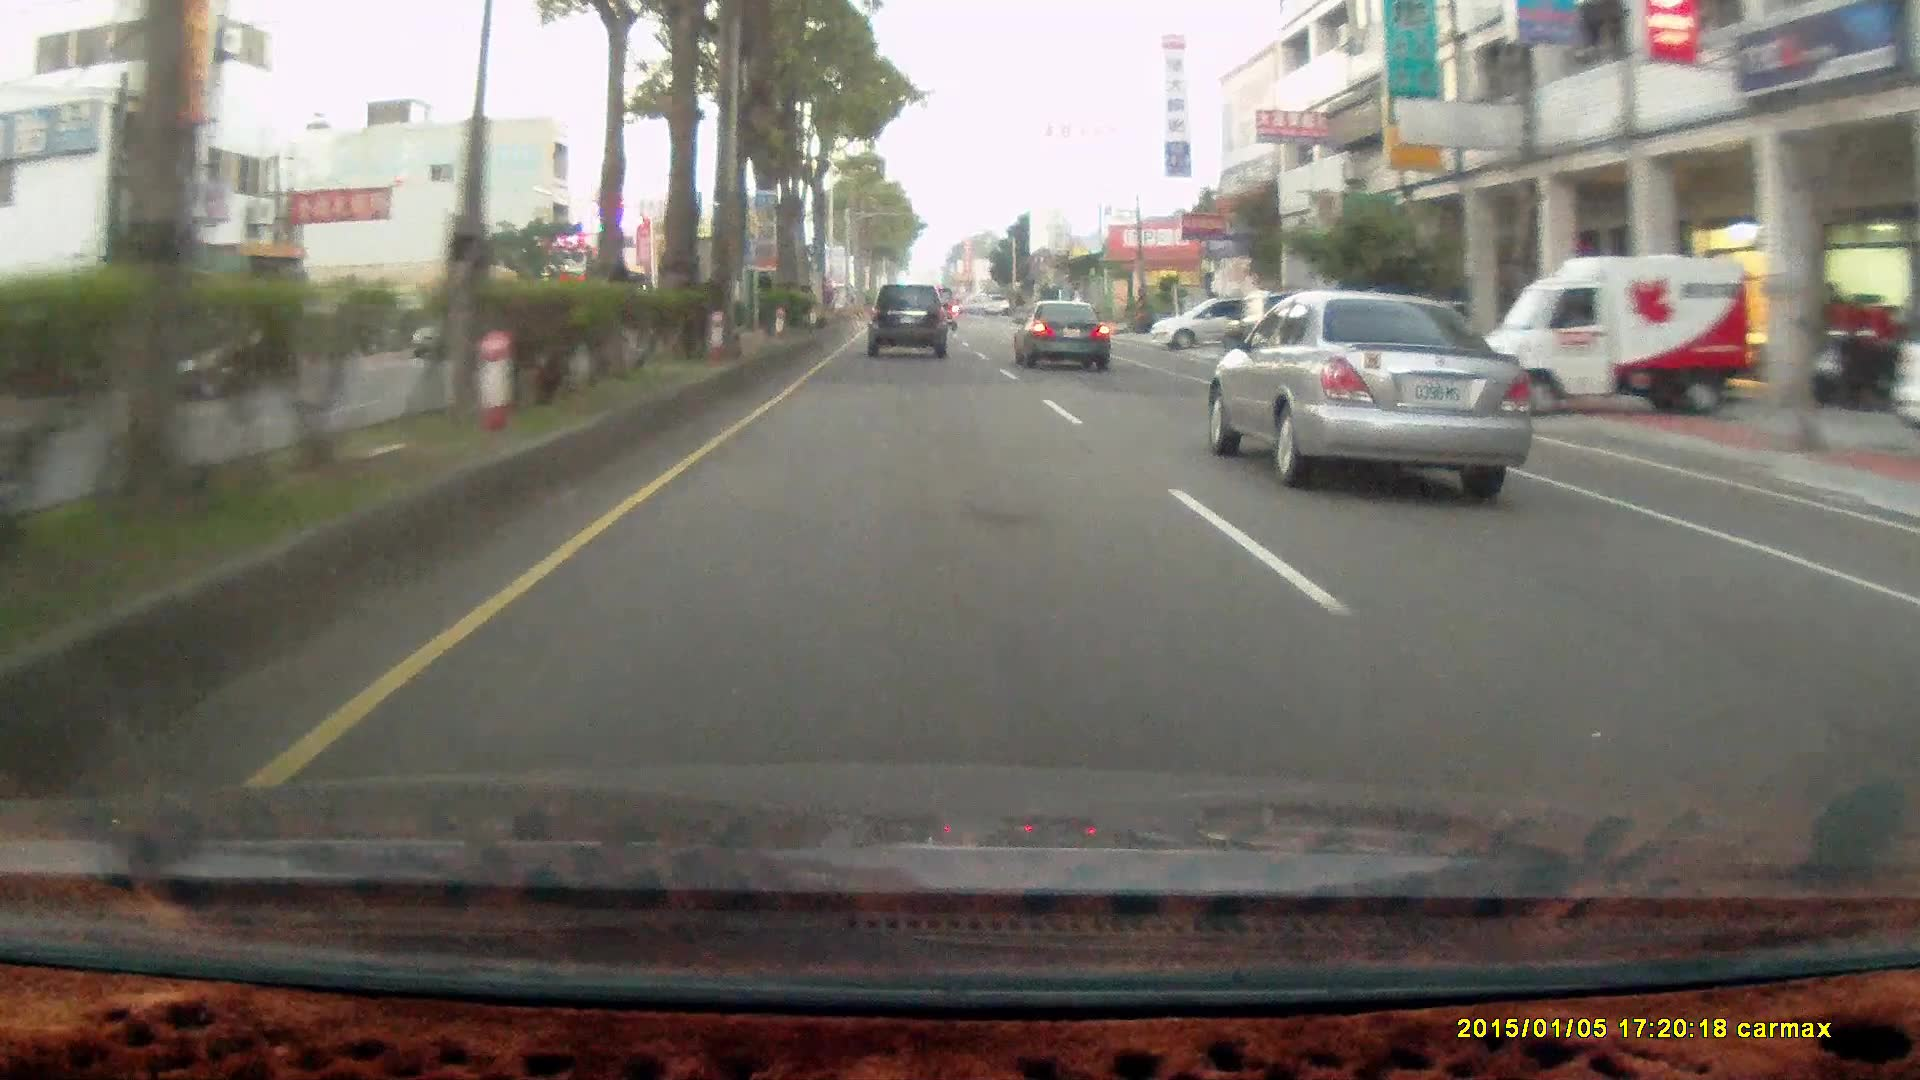vehicle: (1217, 290, 1543, 489), (1472, 255, 1756, 417), (1472, 255, 1749, 417), (1218, 287, 1327, 368), (1240, 286, 1346, 367), (1143, 298, 1284, 357), (1146, 294, 1287, 351), (1013, 298, 1116, 372), (1011, 299, 1109, 372), (866, 282, 951, 363), (866, 284, 947, 357), (1888, 301, 1920, 458)
